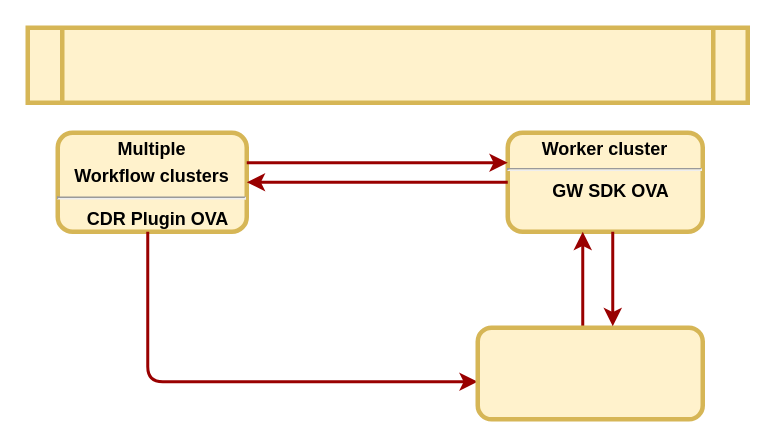
Some shapes in this 776 by 447 pixel diagram are drawn without their labels. The box of each missing label's shape, as (x1, y1, x2, y2) in pixels:
CDR folder-to-folder GW SOLUTION: (25, 25, 749, 104)
Glasswall Desktop Desktop Offline OVA: (475, 325, 704, 421)
